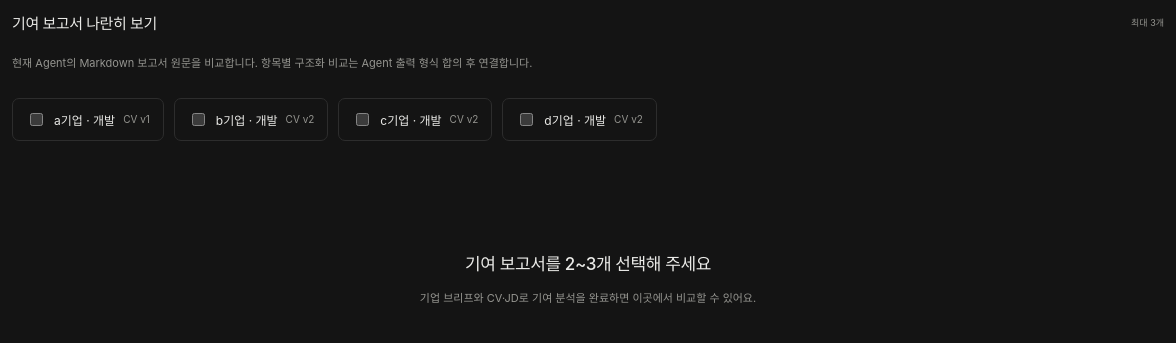
Test: compares only selected reports, warns about different CVs and limits selection to three
The image size is (1176, 343).
Click the checkbox labelled "a기업 · 개발 CV v1" at {"x": 36, "y": 119}, box top-left (30, 113), bottom-right (43, 126)
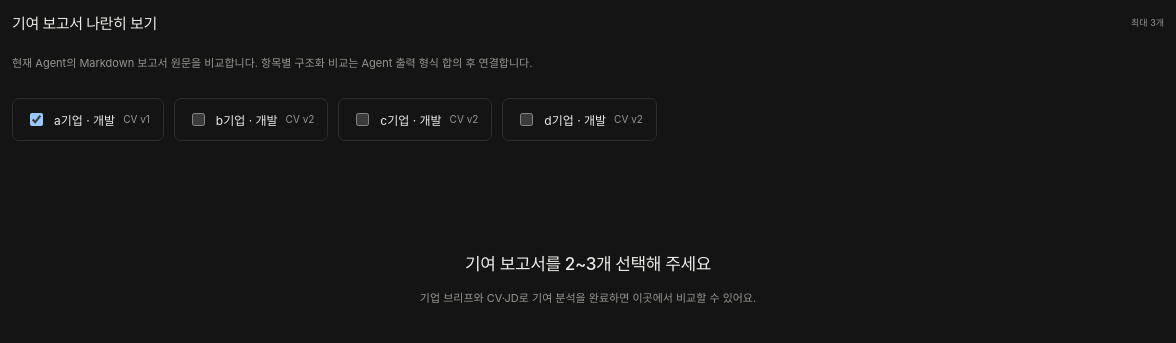
Click the 2nd checkbox at {"x": 198, "y": 119}, box top-left (192, 113), bottom-right (205, 126)
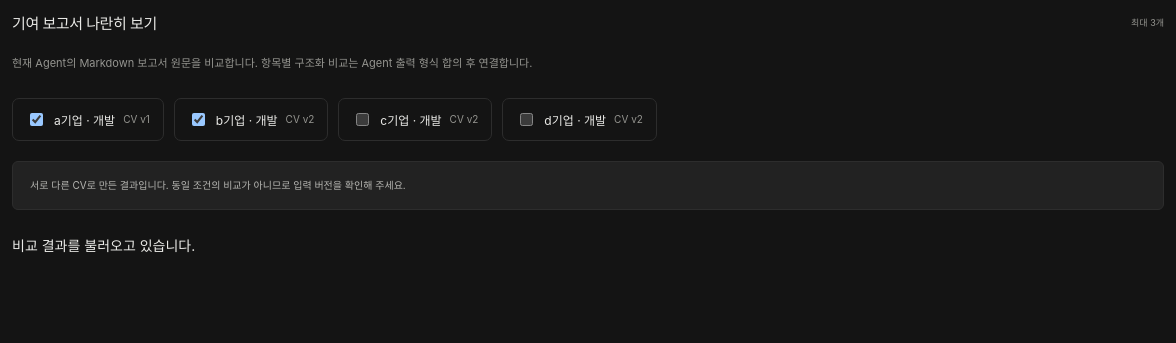
Click the 3rd checkbox at {"x": 363, "y": 119}, box top-left (356, 113), bottom-right (369, 126)
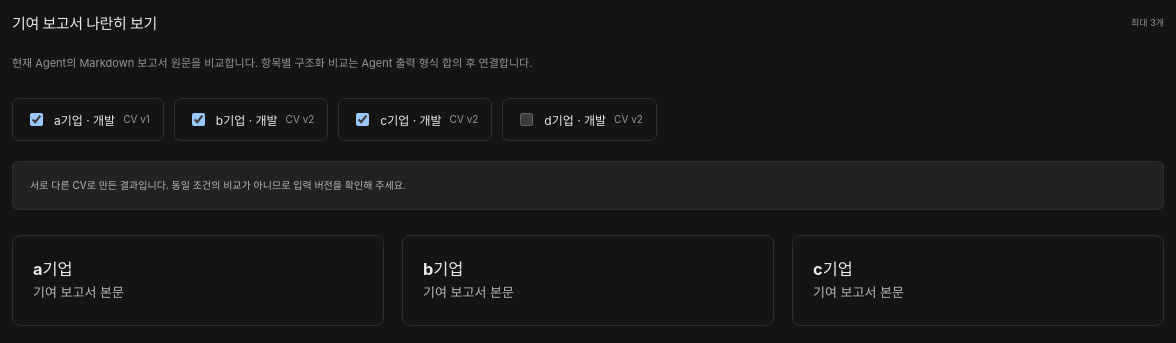
Now the text "서로 다른 CV로 만든 결과입니다. 동일 조건의 비교가 아니므로 입력 버전을 확인해 주세요." is shown, box top-left (30, 176), bottom-right (406, 195)
Now the 4th checkbox is disabled, box top-left (520, 113), bottom-right (533, 126)
Now the text "기여 보고서 본문" is shown 3 times, box top-left (33, 284), bottom-right (124, 300); top-left (423, 284), bottom-right (514, 300); top-left (813, 284), bottom-right (904, 300)
